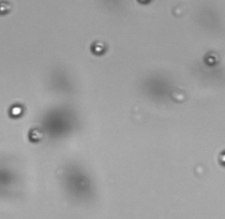Dead Cell: (27, 127, 43, 143), (91, 39, 107, 54), (205, 53, 218, 65), (1, 3, 12, 15)
Living Cell: (10, 104, 24, 117)
